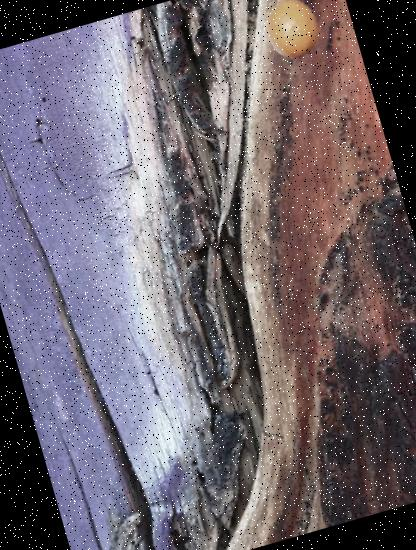Lemon: (255, 0, 330, 64)
